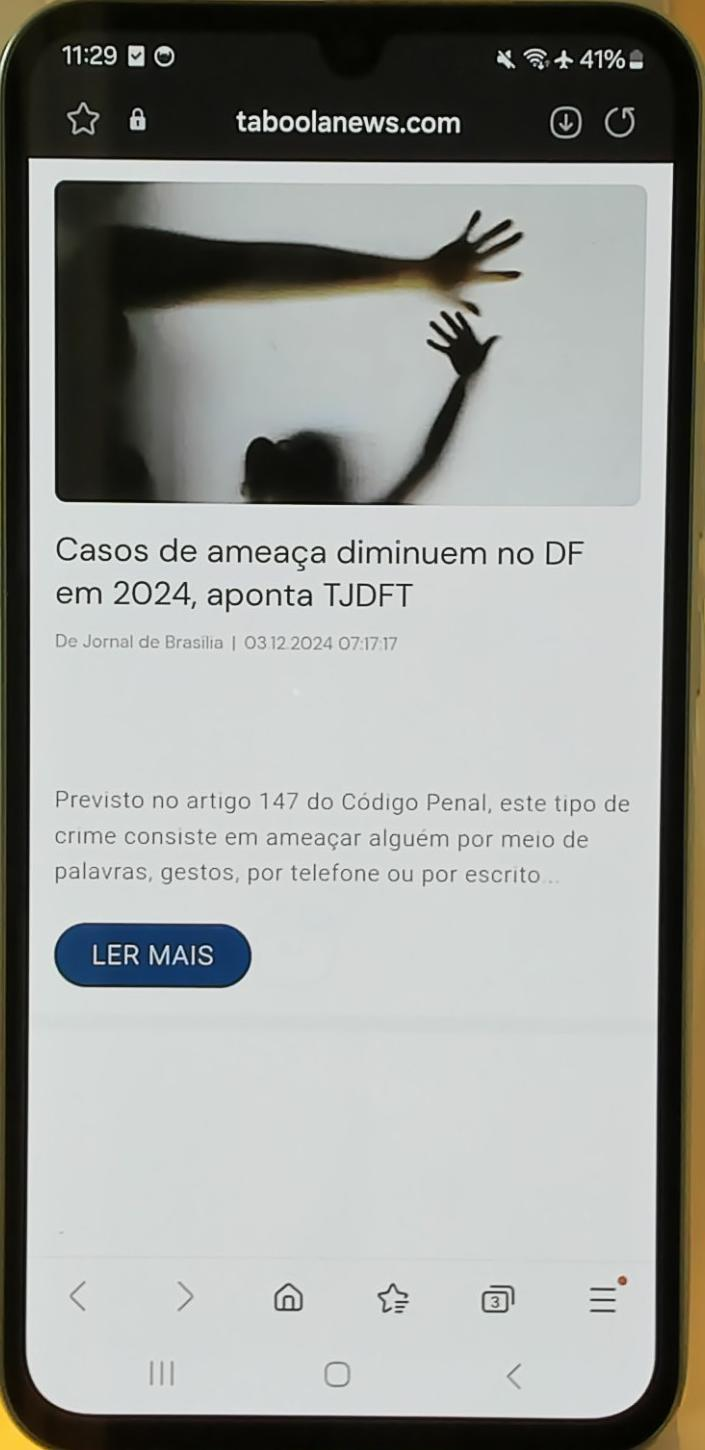CommunBotton: (54, 917, 254, 990), (370, 1272, 411, 1319), (477, 1275, 519, 1320), (549, 98, 584, 150), (143, 1348, 183, 1392), (268, 1272, 304, 1319), (64, 97, 103, 137), (601, 99, 637, 142), (499, 1355, 528, 1404), (323, 1355, 355, 1397), (124, 98, 150, 133)
menu: (587, 1272, 630, 1320)
